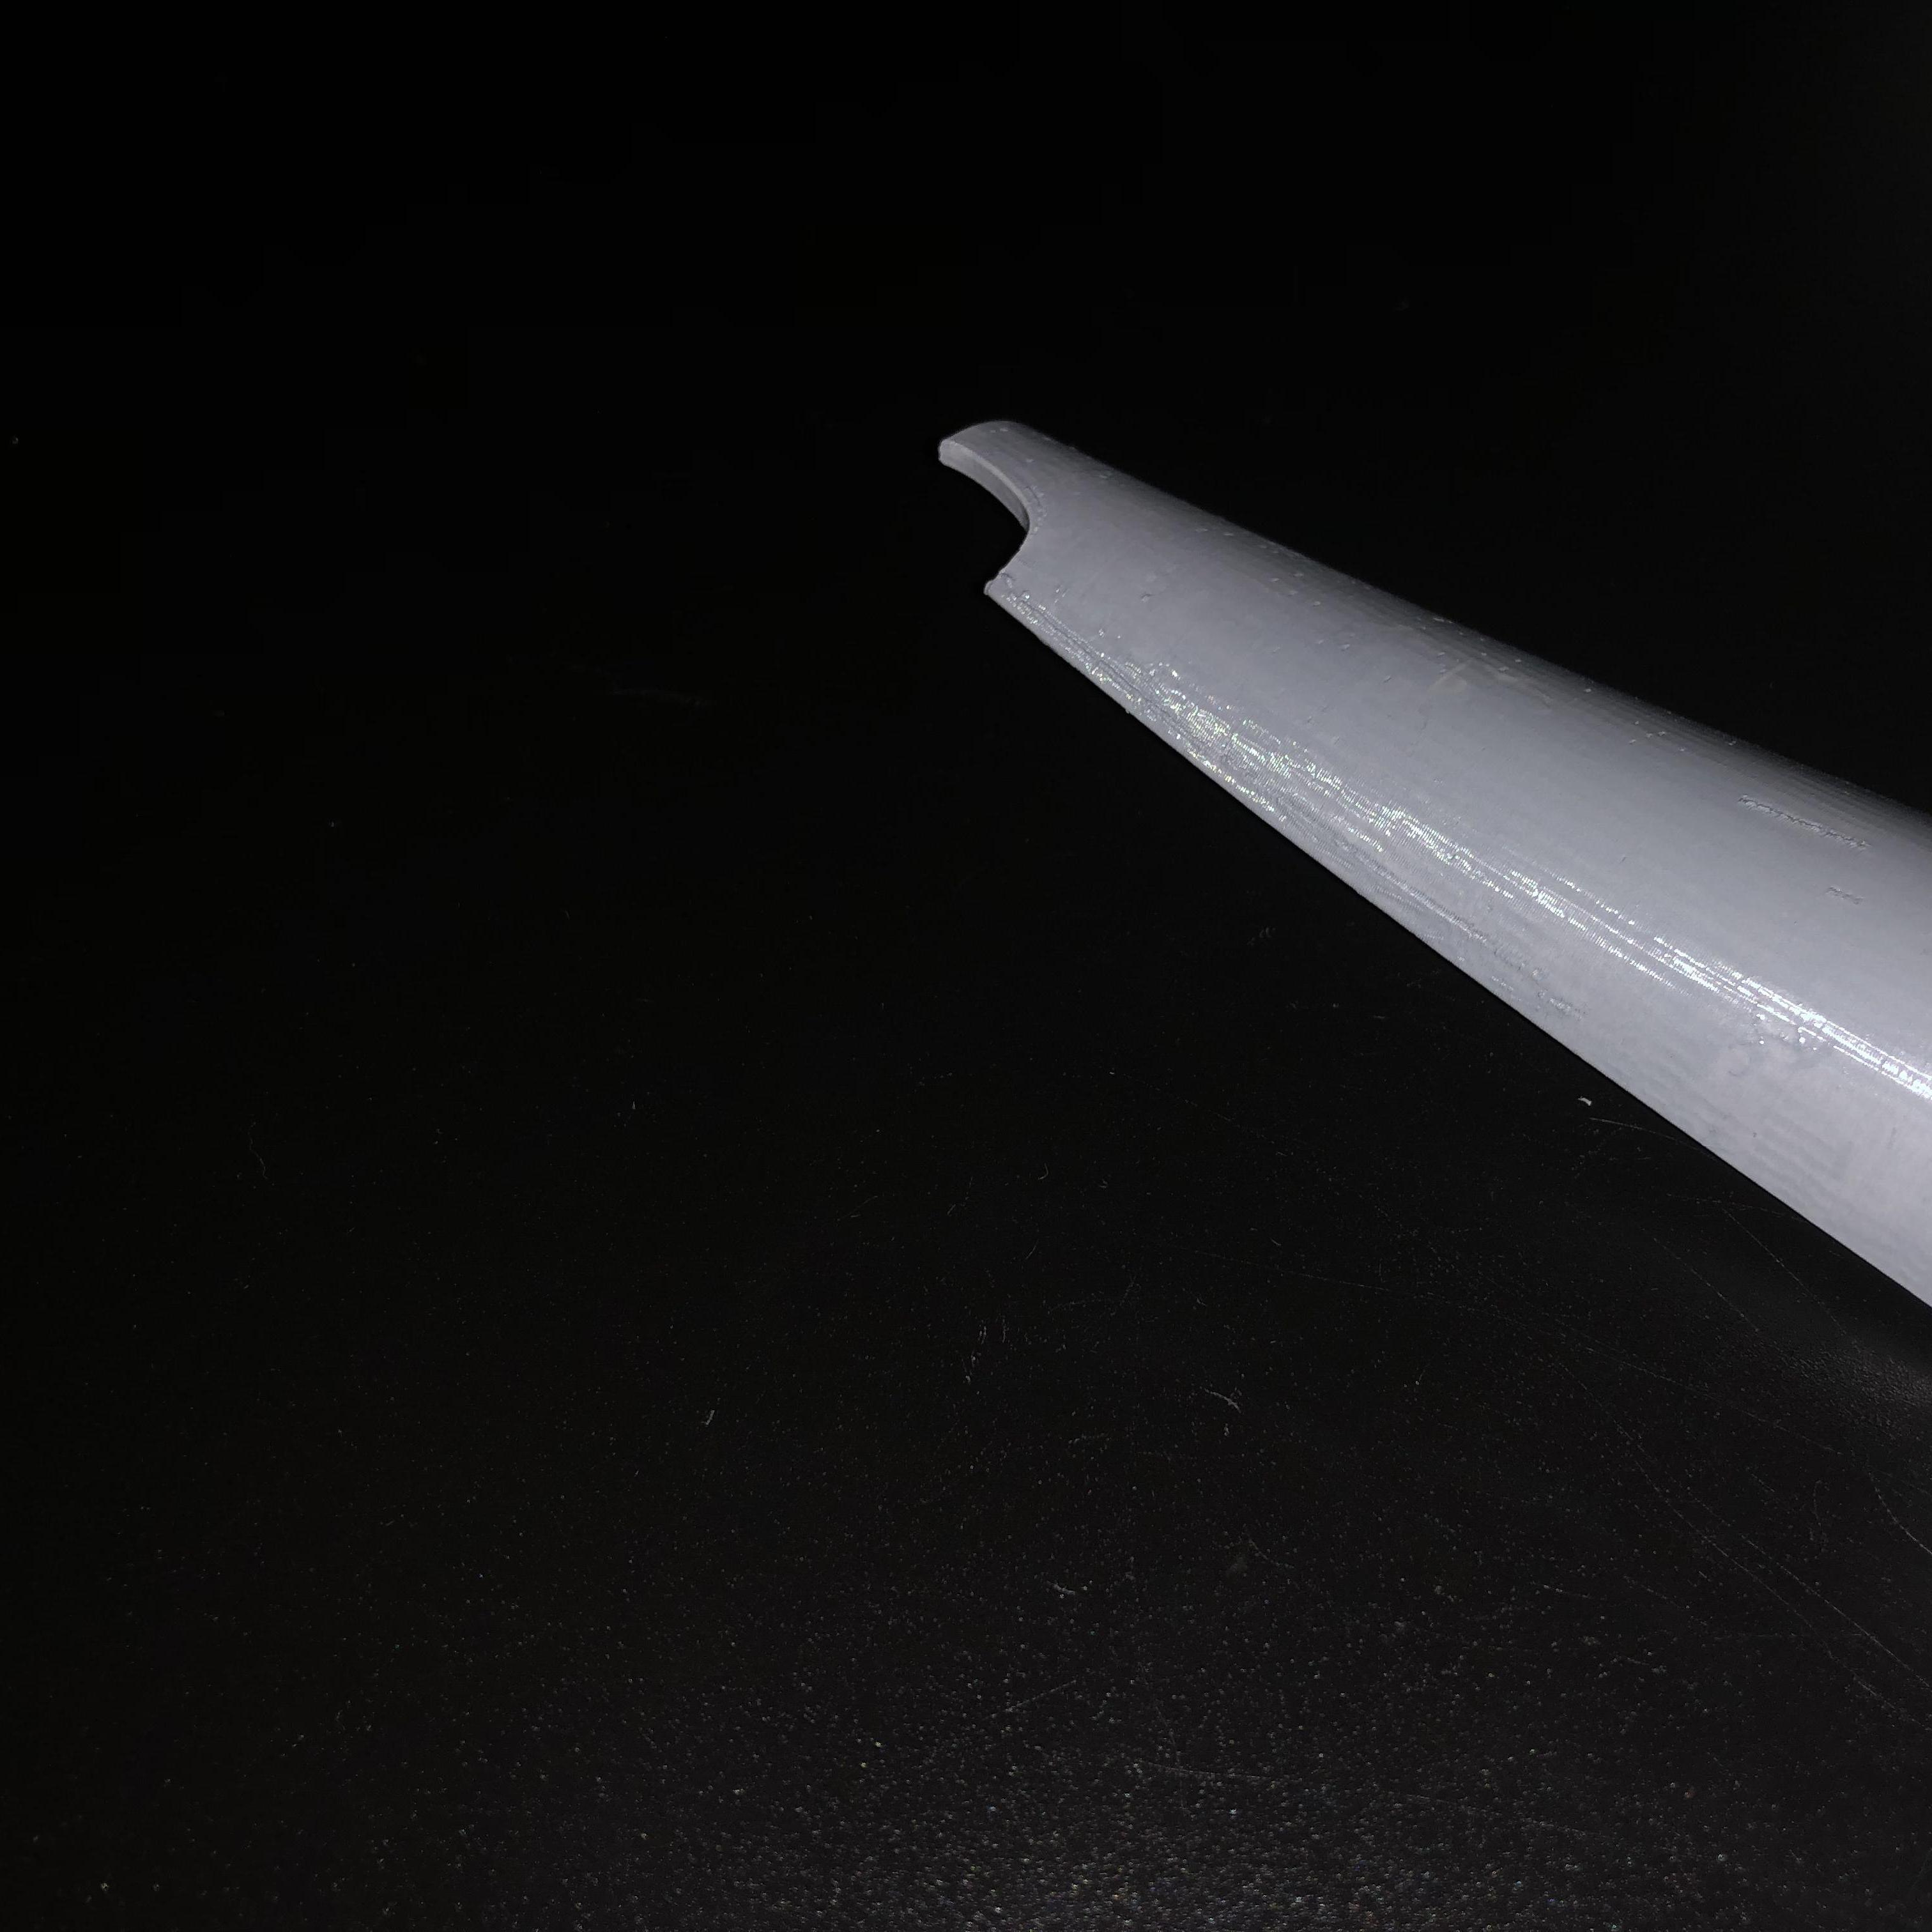fracture: (947, 442, 1053, 614)
